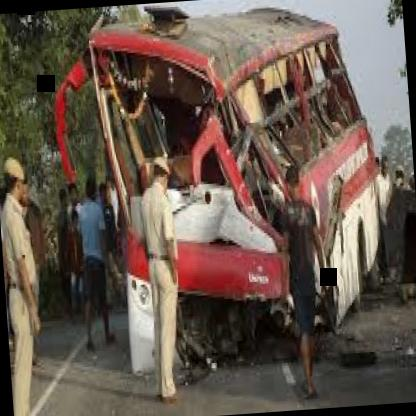accident: (45, 0, 394, 379)
